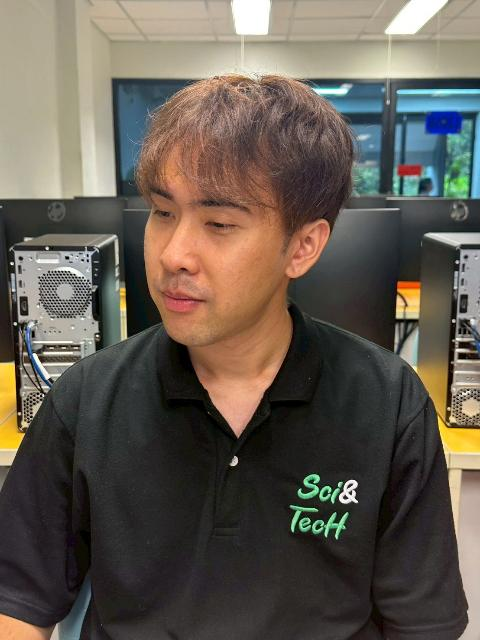fokus: (133, 65, 341, 351)
